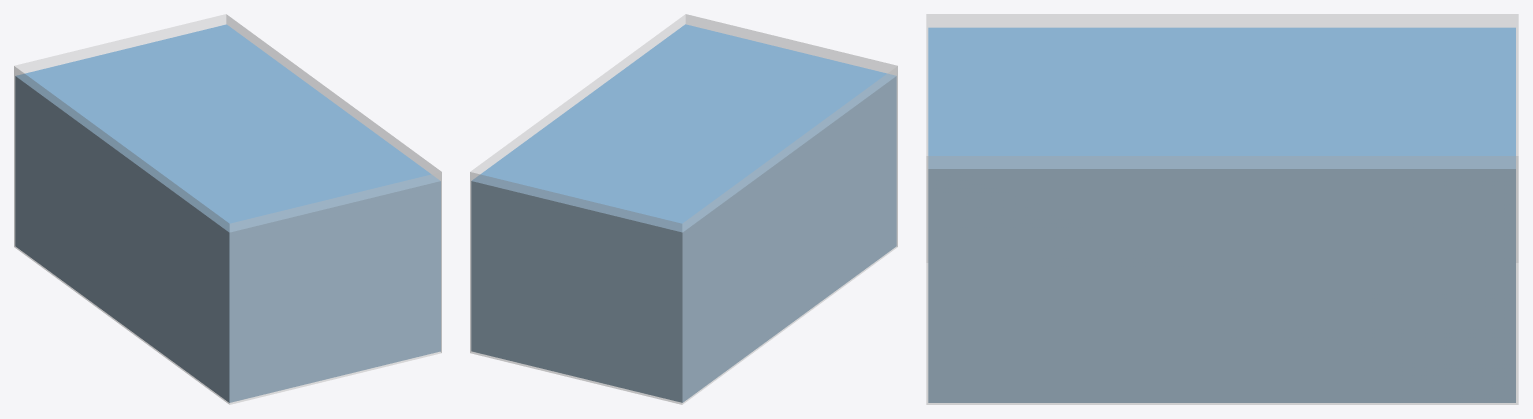
Rendered from only_suisou.glb.
3 renders of one model, left to right at view 1: azimuth 30°, elevation 25°; view 2: azimuth 150°, elevation 25°; view 3: azimuth 270°, elevation 25°, orthographic. The views are drawn at different scales.
Parts seen in each view (by area): view 1: 立方体.001, 立方体; view 2: 立方体.001, 立方体; view 3: 立方体.001, 立方体.
Part boxes in pixels (box(x1,y1,x2,y2)): 立方体.001: box(15, 24, 440, 402); 立方体: box(14, 14, 441, 404); 立方体.001: box(471, 24, 896, 402); 立方体: box(470, 14, 897, 404); 立方体.001: box(928, 27, 1515, 402); 立方体: box(926, 14, 1518, 404).
Bounding box in the file's own units: 4.18 × 3.41 × 7.35.
